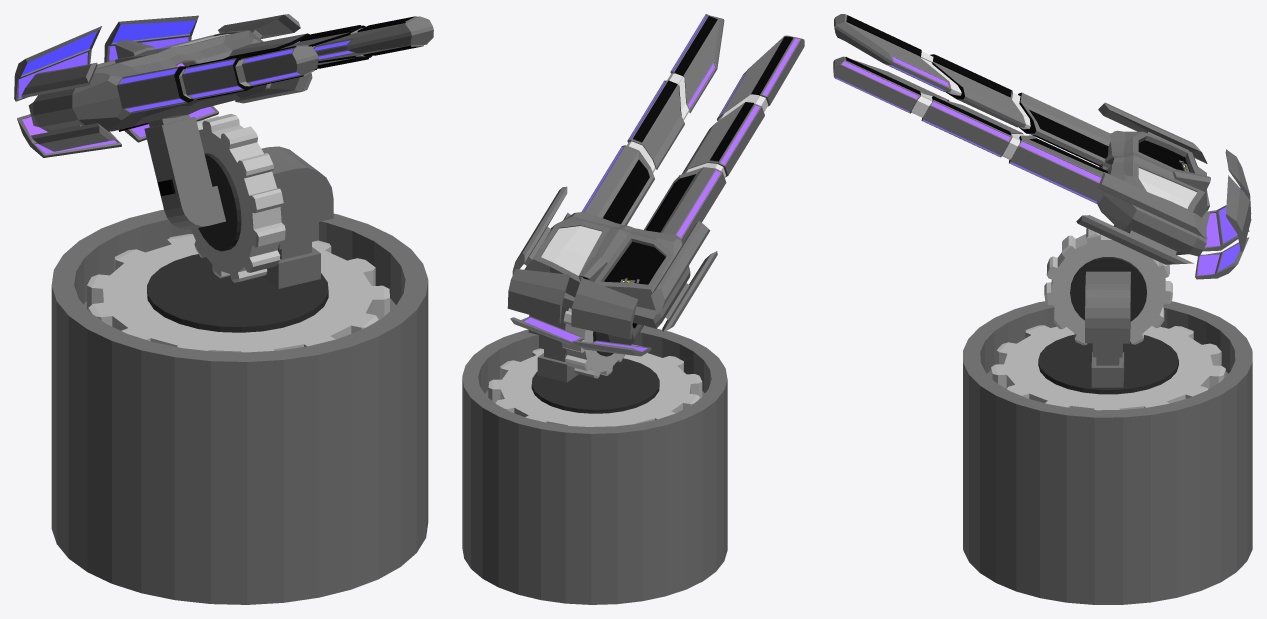
File: Railgun.fbx
3 renders of one model, left to right at view 1: azimuth 30°, elevation 25°; view 2: azimuth 150°, elevation 25°; view 3: azimuth 270°, elevation 25°, orthographic. The views are drawn at different scales.
Visible parts, largest first — view 1: Cylinder.003, Cylinder.001; view 2: Cylinder.003, Cylinder.001; view 3: Cylinder.003, Cylinder.001.
Part boxes in pixels (left/top/right/bottom): Cylinder.003: left=51, top=209, right=428, bottom=604; Cylinder.001: left=14, top=14, right=433, bottom=352; Cylinder.003: left=462, top=326, right=727, bottom=604; Cylinder.001: left=488, top=14, right=804, bottom=427; Cylinder.003: left=963, top=301, right=1252, bottom=604; Cylinder.001: left=833, top=14, right=1251, bottom=410.
Bounding box in the file's own units: 237 × 439 × 343.
